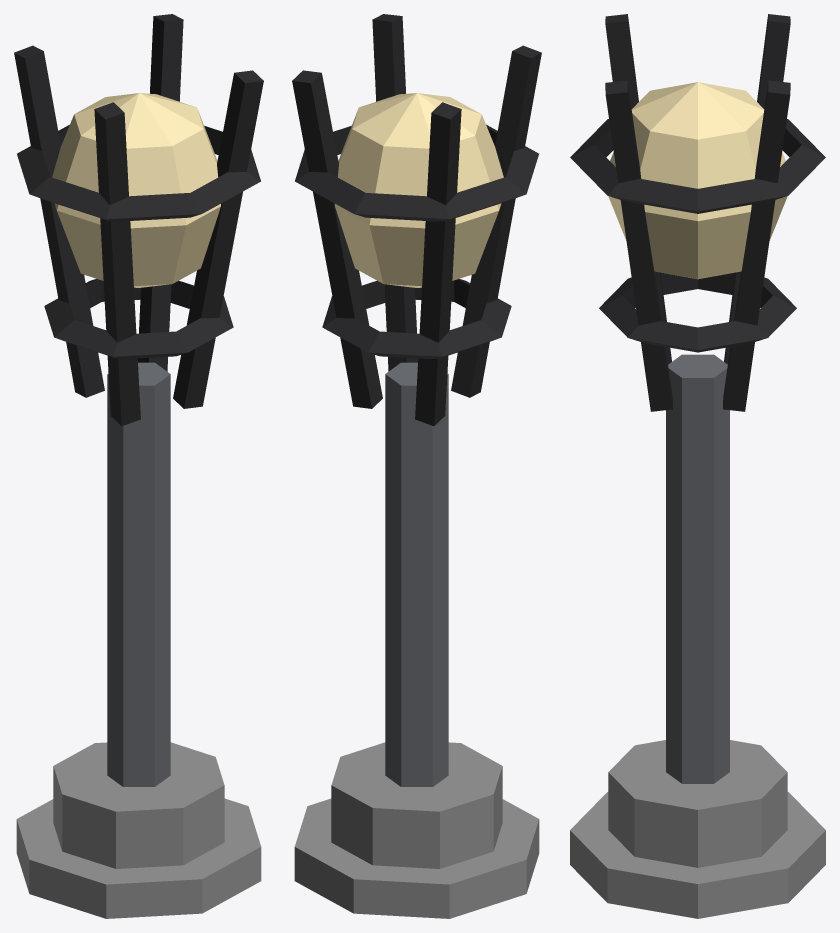
Rendered from vfem2_viking_standing_lamp.obj.
3 views of the same model, side by side, from view 1: azimuth 30°, elevation 25°; view 2: azimuth 150°, elevation 25°; view 3: azimuth 270°, elevation 25° (orthographic).
Parts seen in each view (by area): view 1: vfem2_viking_standing_lamp; view 2: vfem2_viking_standing_lamp; view 3: vfem2_viking_standing_lamp.
Boxes of the visible parts, x1,y1,x2,y2 form: vfem2_viking_standing_lamp: (14,14,263,918); vfem2_viking_standing_lamp: (292,14,541,918); vfem2_viking_standing_lamp: (570,14,825,918).
Size of the model in its own units: 0.4 by 1.4 by 0.4.
